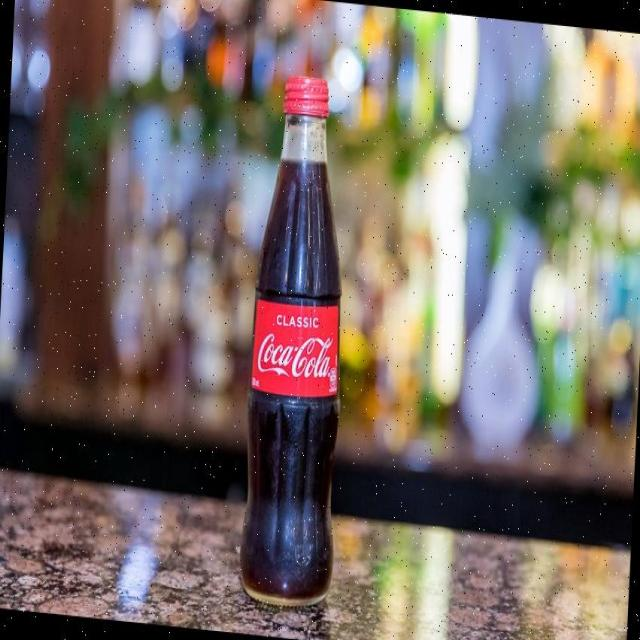coca-cola: (238, 64, 364, 611)
